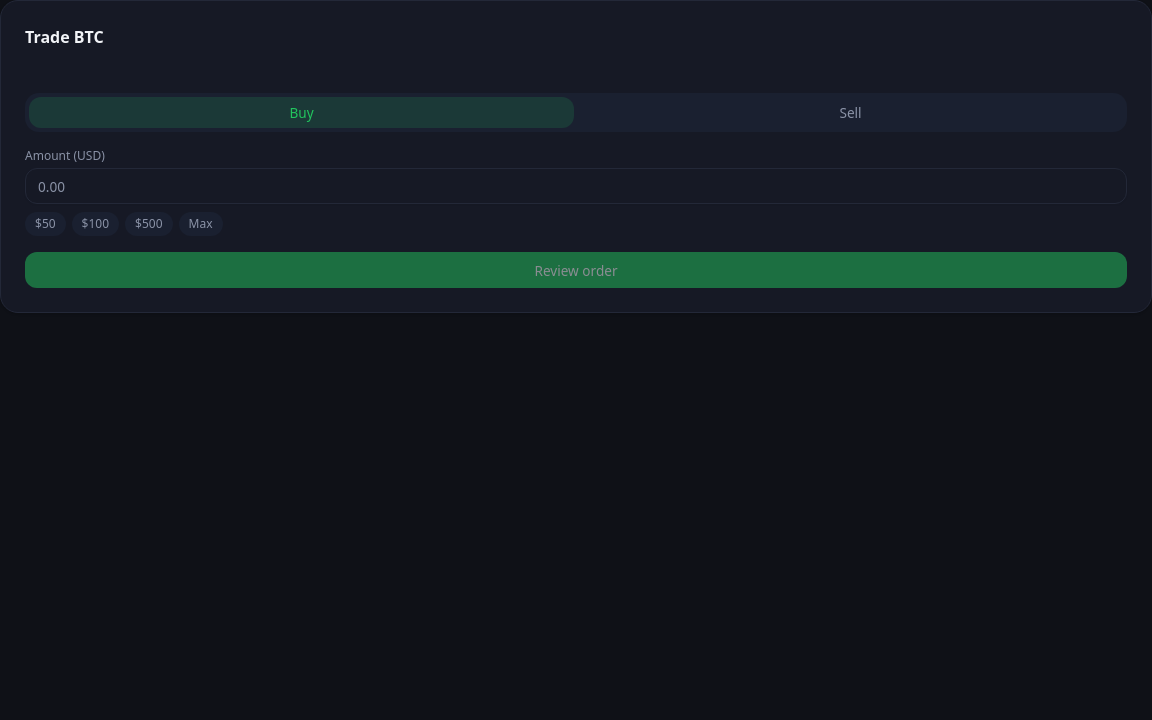
Test: OrderTicket › renders a server rejection inline
In the field labelled "Amount (USD)": (576, 186) [25,168,1127,204], type "250"
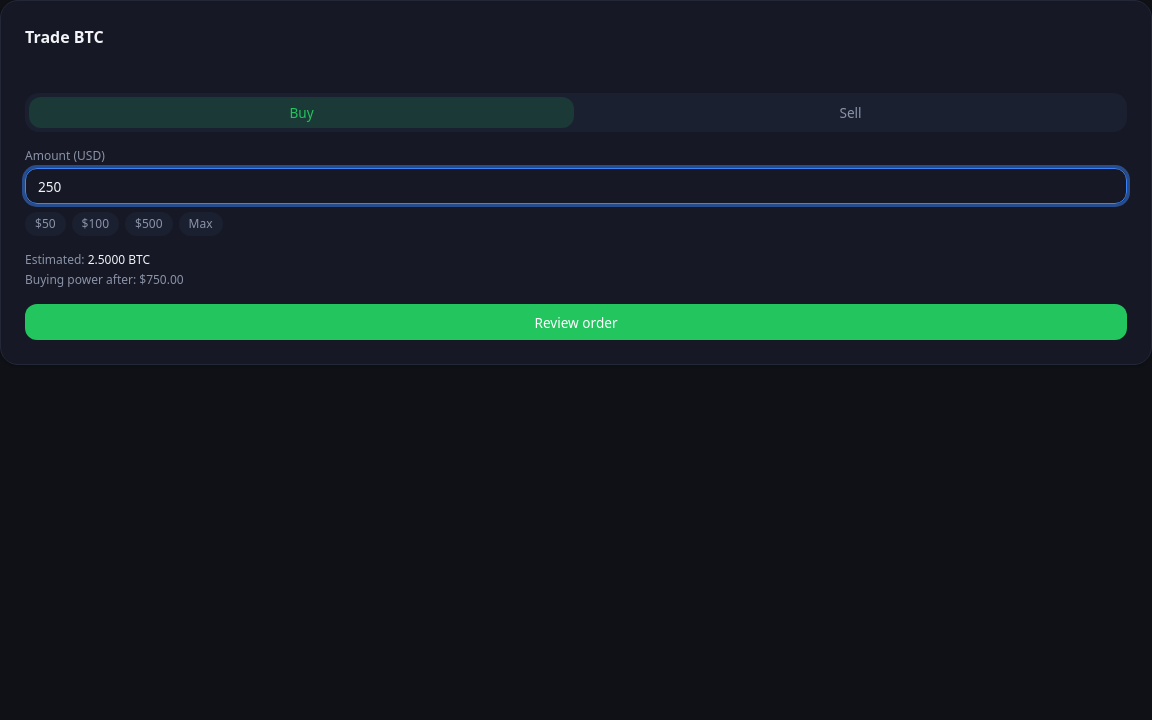
Click the button "Review order": (576, 322) [25,304,1127,340]
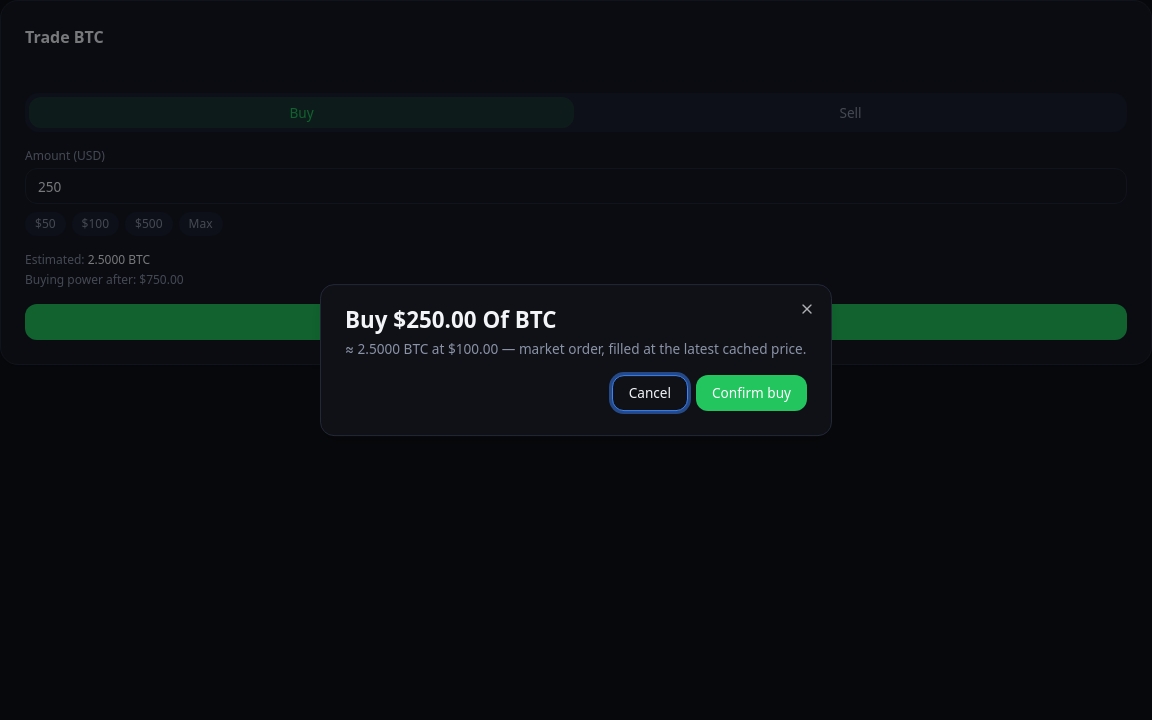
Click the button "Confirm buy": (752, 393) [696,375,807,411]
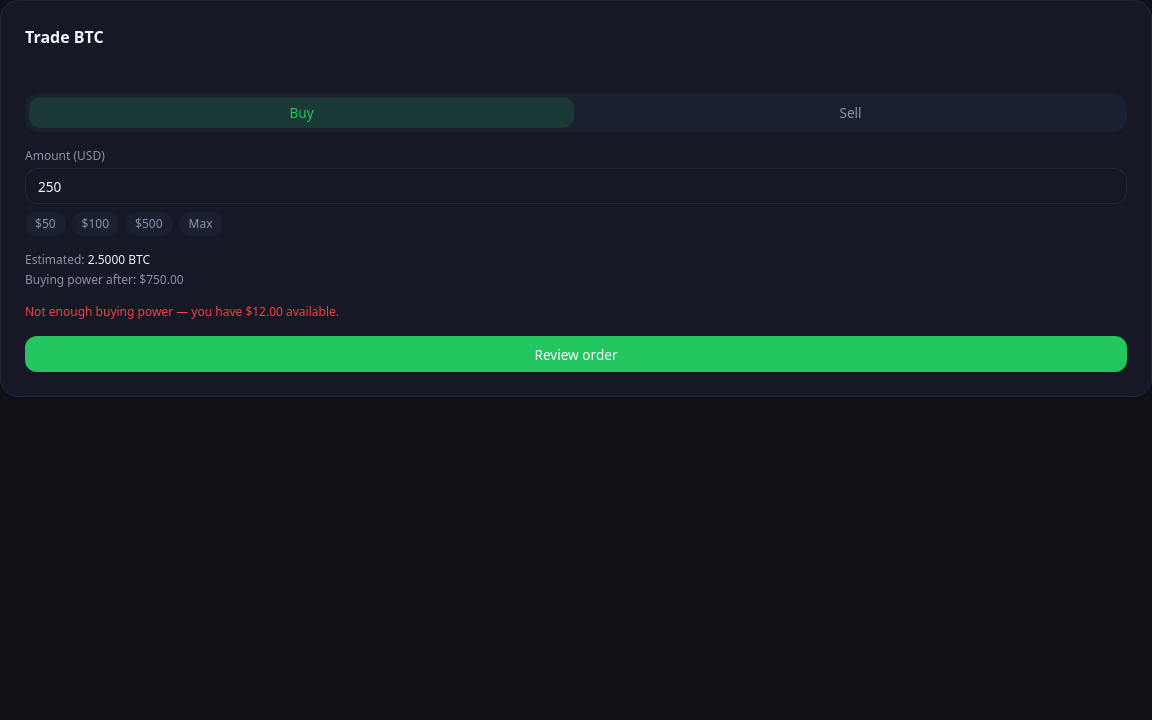
expect the text "Not enough buying power — you have $12.00 available." is shown: met, box [25,303,339,320]
